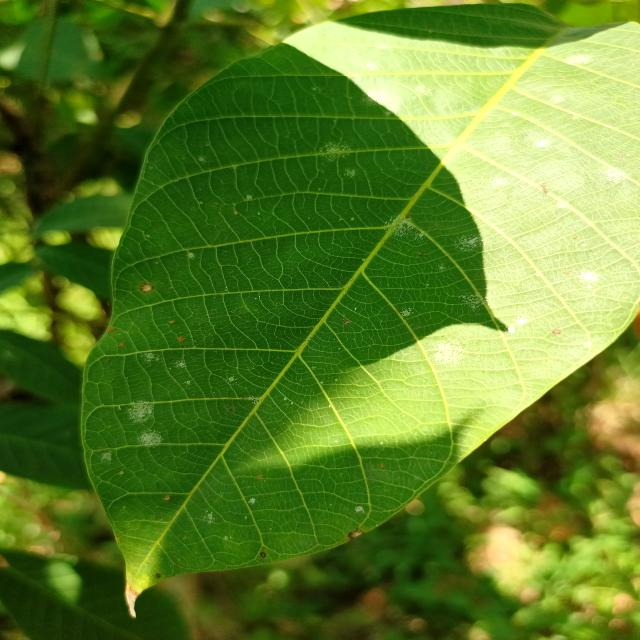Colletotrichum: (140, 283, 154, 292), (259, 552, 267, 558), (552, 329, 561, 334), (156, 574, 161, 578)
Leaf-Blight: (125, 584, 140, 617)
